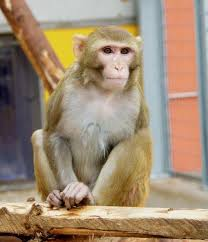monkey: (44, 15, 171, 242)
